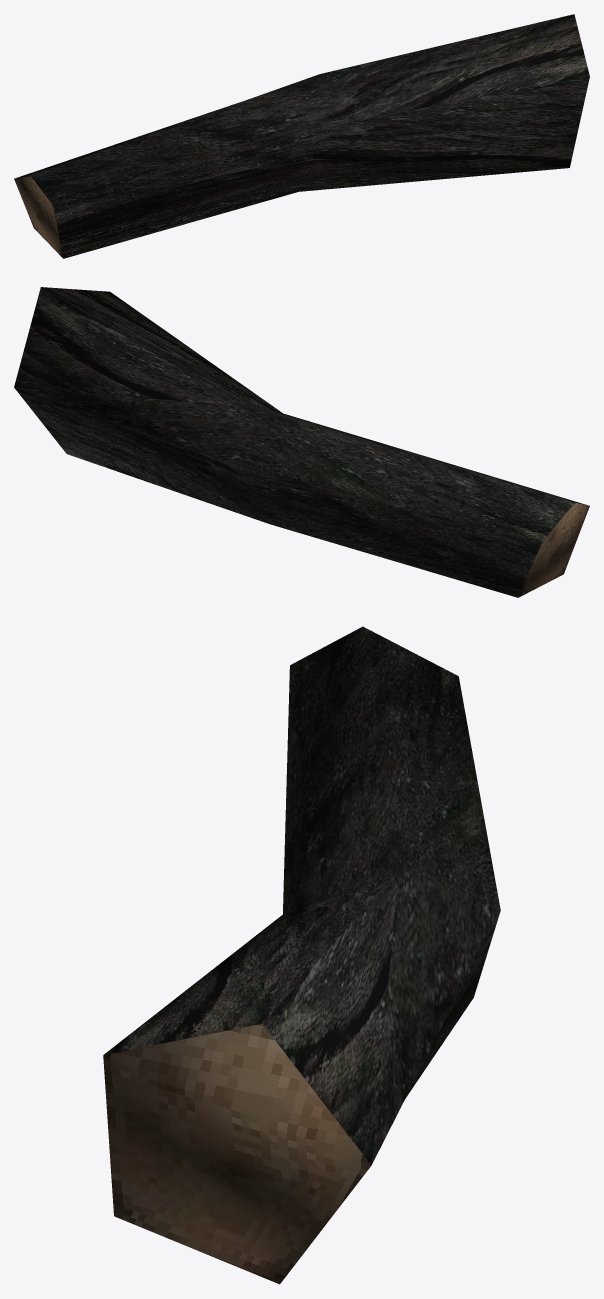
Rendered from PC_LOB_LOG2.glb.
The picture shows the model from 3 angles, top to bottom: view 1: azimuth 30°, elevation 25°; view 2: azimuth 150°, elevation 25°; view 3: azimuth 270°, elevation 25°; orthographic projection. The views are drawn at different scales.
Visible parts, largest first — view 1: Mesh; view 2: Mesh; view 3: Mesh.
Part boxes in pixels (x1=…): Mesh: x1=14, y1=14, x2=589, y2=258; Mesh: x1=14, y1=287, x2=589, y2=597; Mesh: x1=103, y1=626, x2=500, y2=1284.
Bounding box in the file's own units: 2.71 × 0.721 × 0.901.
Materials: 2 (2 with a texture image).
